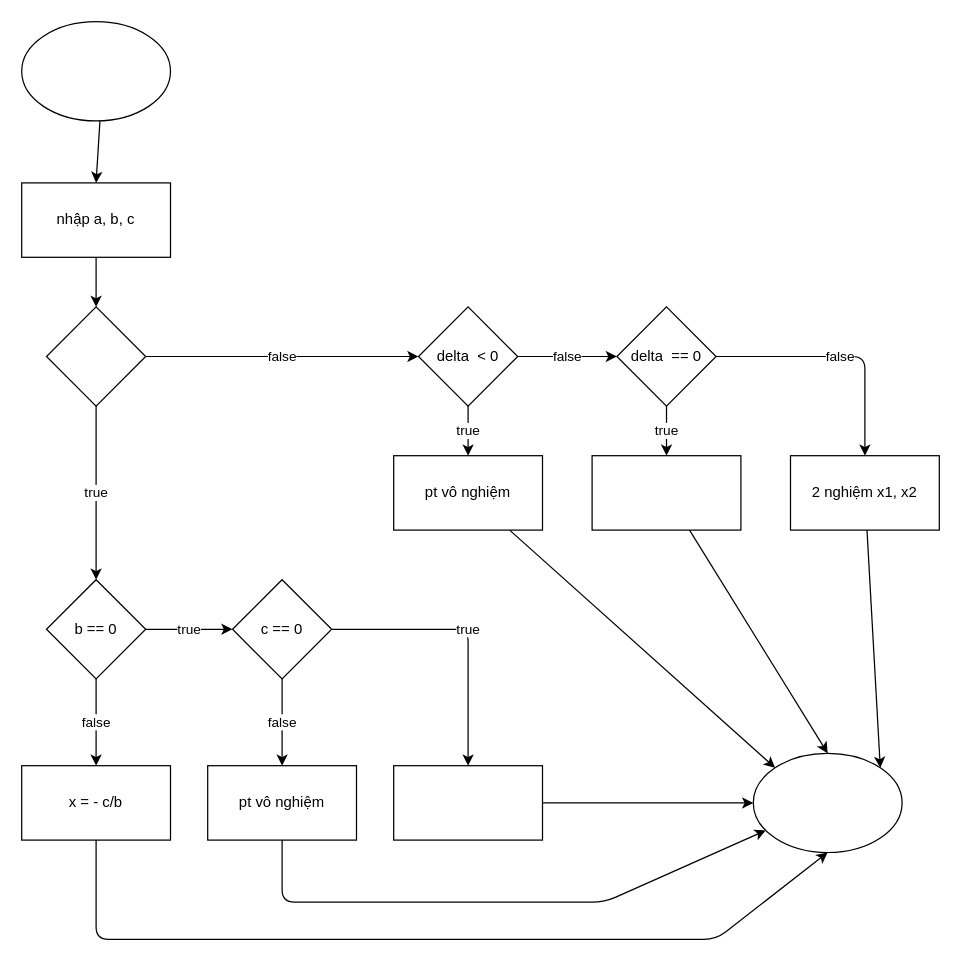
The diagram is 961 pixels wide and 971 high, and some of its shapes have lost their labels. The shapes that lost their labels are listed below. From the top down, each one's centre as x and y in pixels, then its label:
At point (95, 70): "bắt đầu phương trình bậc 2".
At point (95, 356): "a == 0".
At point (666, 492): "pt nghiệm kép -b/(2*a)".
At point (467, 802): "pt vô số nghiệm".
At point (827, 802): "kết thúc".
